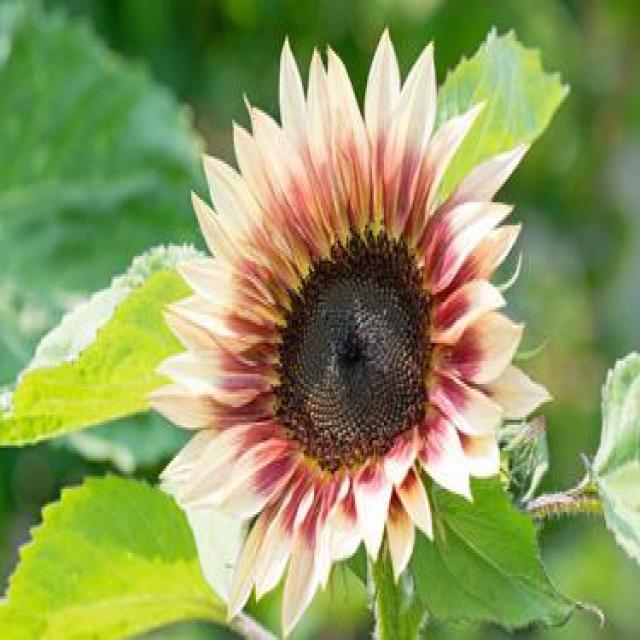sunflower: (145, 20, 556, 640)
